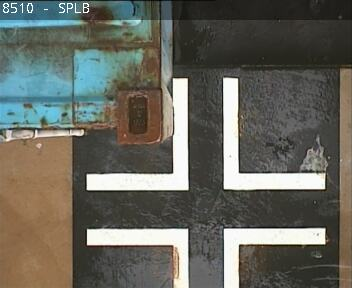groundmarker_1: (87, 80, 327, 189), (86, 228, 326, 288)
